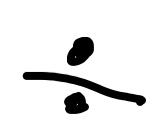div: (23, 38, 146, 114)
